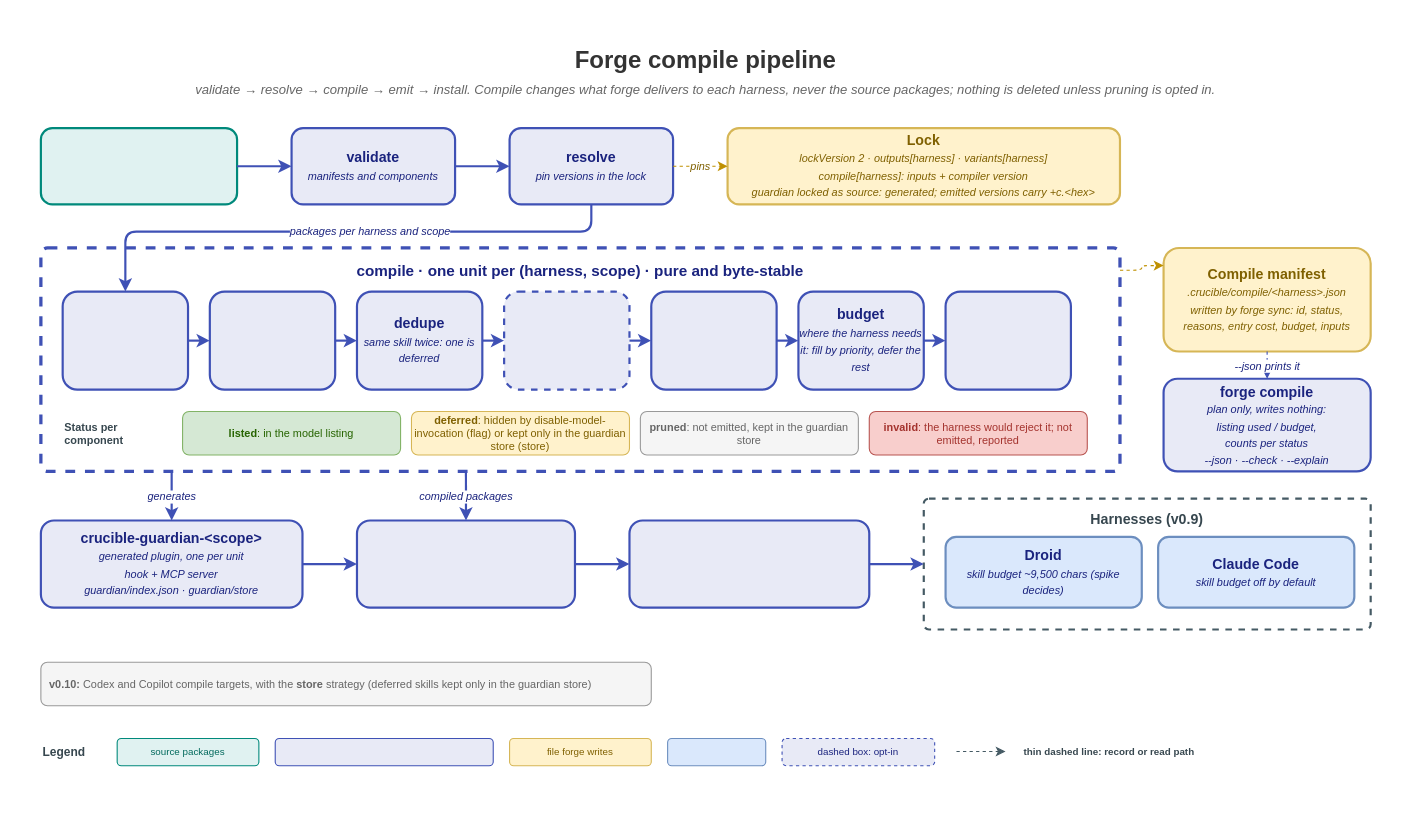
Image size: 1410x833. Some labels were removed from this diagram. Here are the shapes that lost their labels. From the top down, the centre of each, then its label:
At (138,165): "Plugin packages Agent Plugins 1.0 git and local sources".
At (125,340): "link requires, subagent_type and /name edges".
At (272,340): "normalize fill name, description; aliases → inherit (Droid)".
At (566,340): "profile opt-in: rank or prune".
At (713,340): "minify descriptions over the harness cap".
At (1007,340): "guardian build crucible-guardian-<scope> when skills are deferred or pruned".
At (465,563): "emit 0003 emitters factory · claude".
At (749,563): "install local marketplace + registrars".
At (383,751): "forge step or generated plugin".
At (716,751): "harness".
